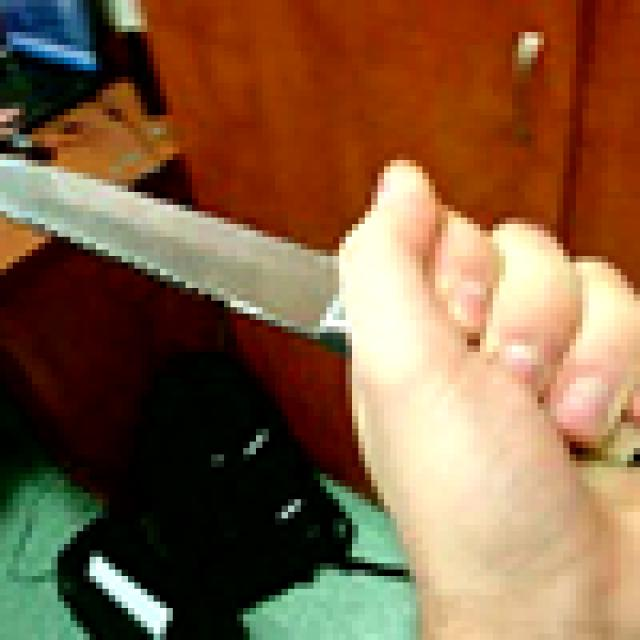Knife: (6, 134, 416, 422)
